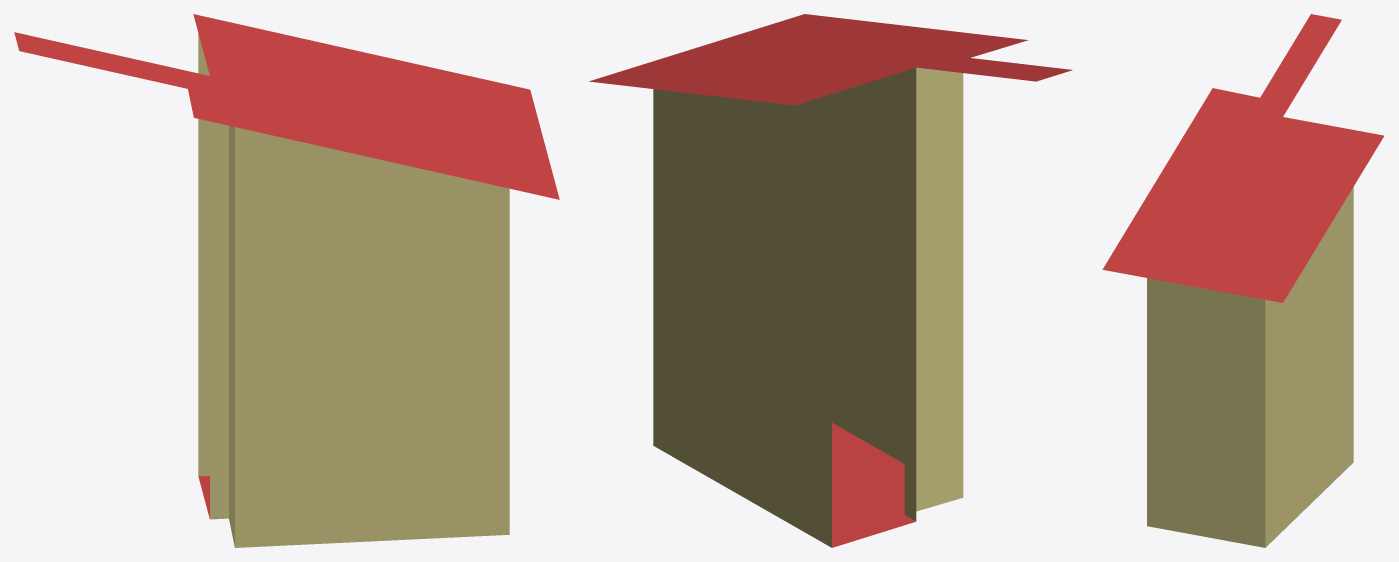
3 renders of one model, left to right at view 1: azimuth 30°, elevation 25°; view 2: azimuth 150°, elevation 25°; view 3: azimuth 270°, elevation 25°, orthographic. The views are drawn at different scales.
Bounding box in the file's own units: 9.43 × 6.24 × 9.09.
